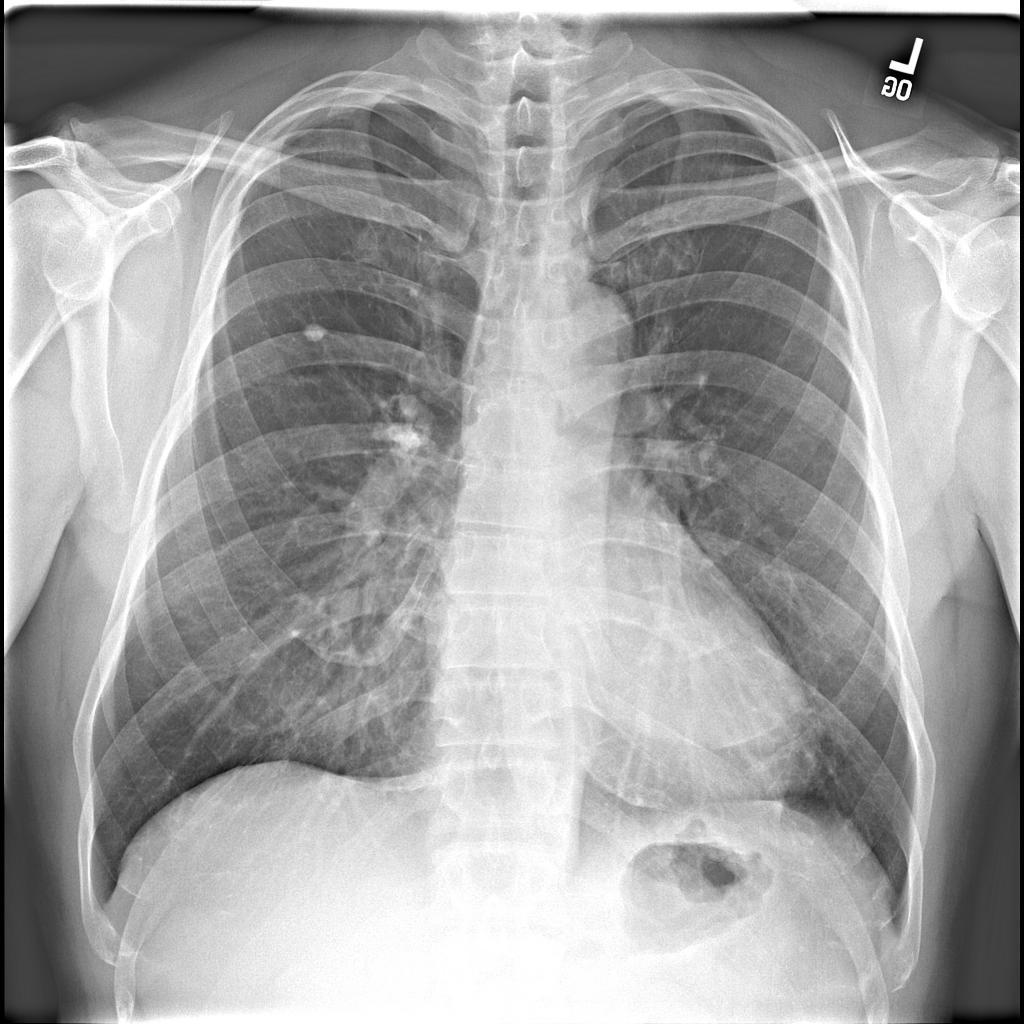Nodule: (299, 322, 326, 353)
